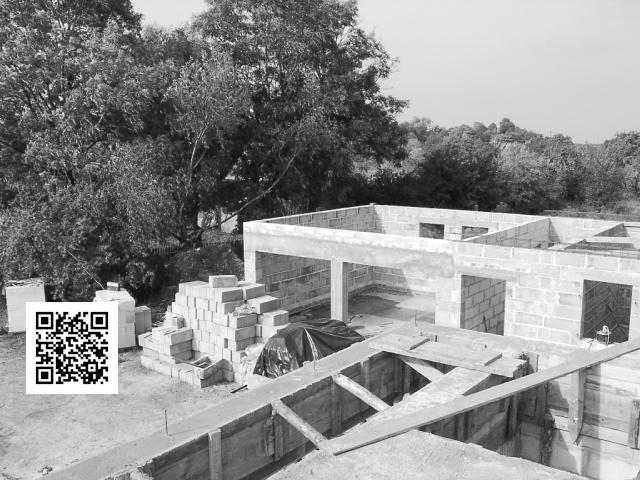qr_code: (26, 303, 118, 393)
